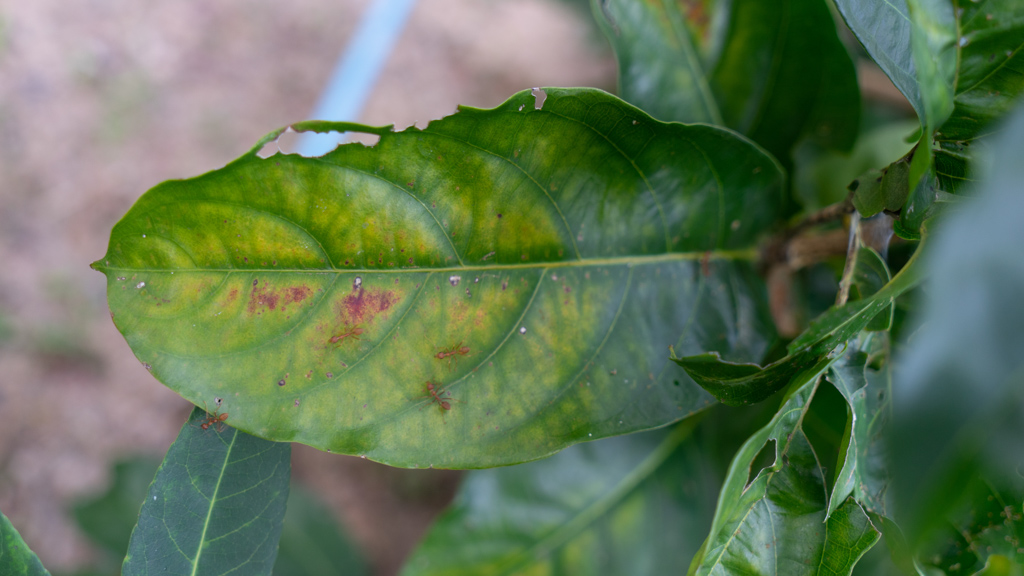Canker: (195, 263, 416, 365), (323, 279, 408, 349), (217, 278, 316, 323), (441, 282, 495, 343)
